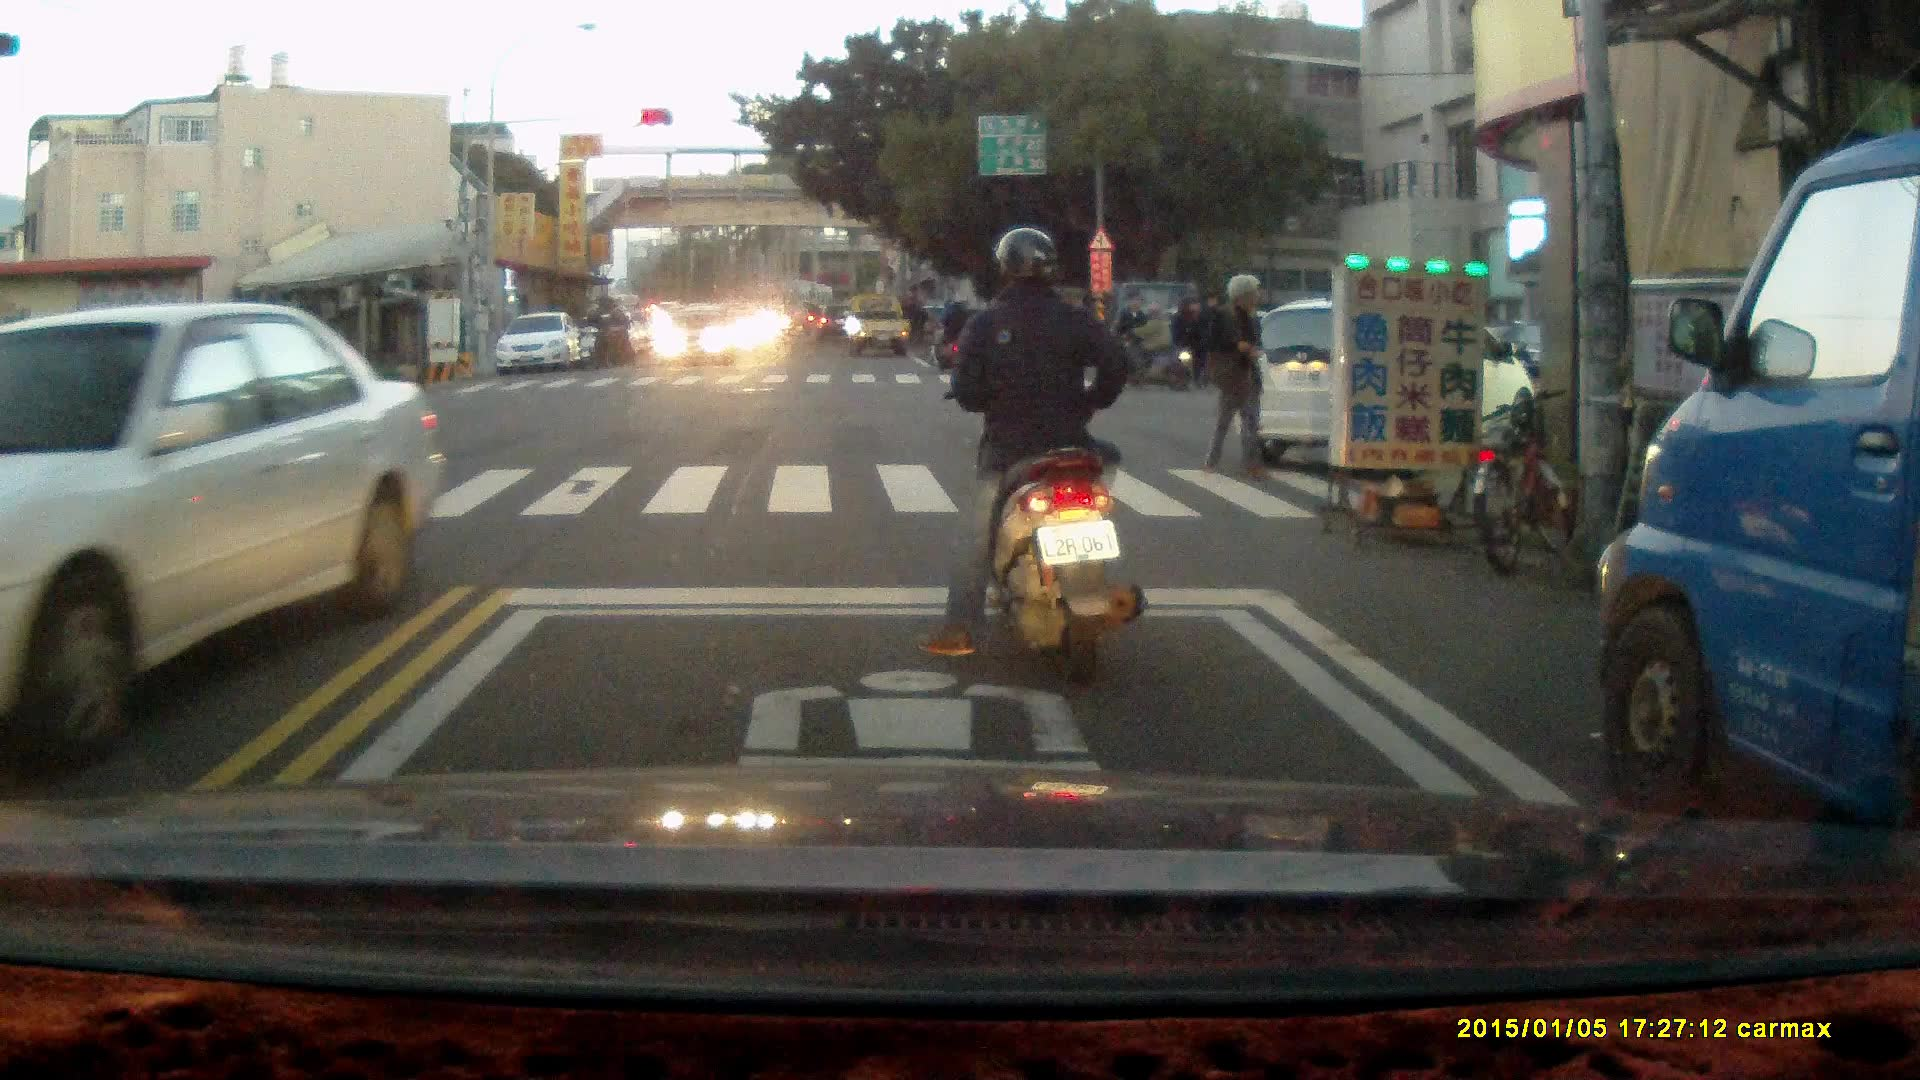pedestrian: (1200, 271, 1272, 477), (1110, 289, 1151, 388), (1167, 292, 1201, 391)
rider: (918, 225, 1149, 685), (1108, 297, 1185, 391), (931, 294, 979, 382), (594, 300, 631, 367), (577, 301, 612, 372)
vehicle: (1596, 120, 1920, 901), (1, 306, 432, 742), (1236, 303, 1533, 462), (493, 311, 584, 378), (654, 301, 741, 371), (846, 294, 912, 360)
